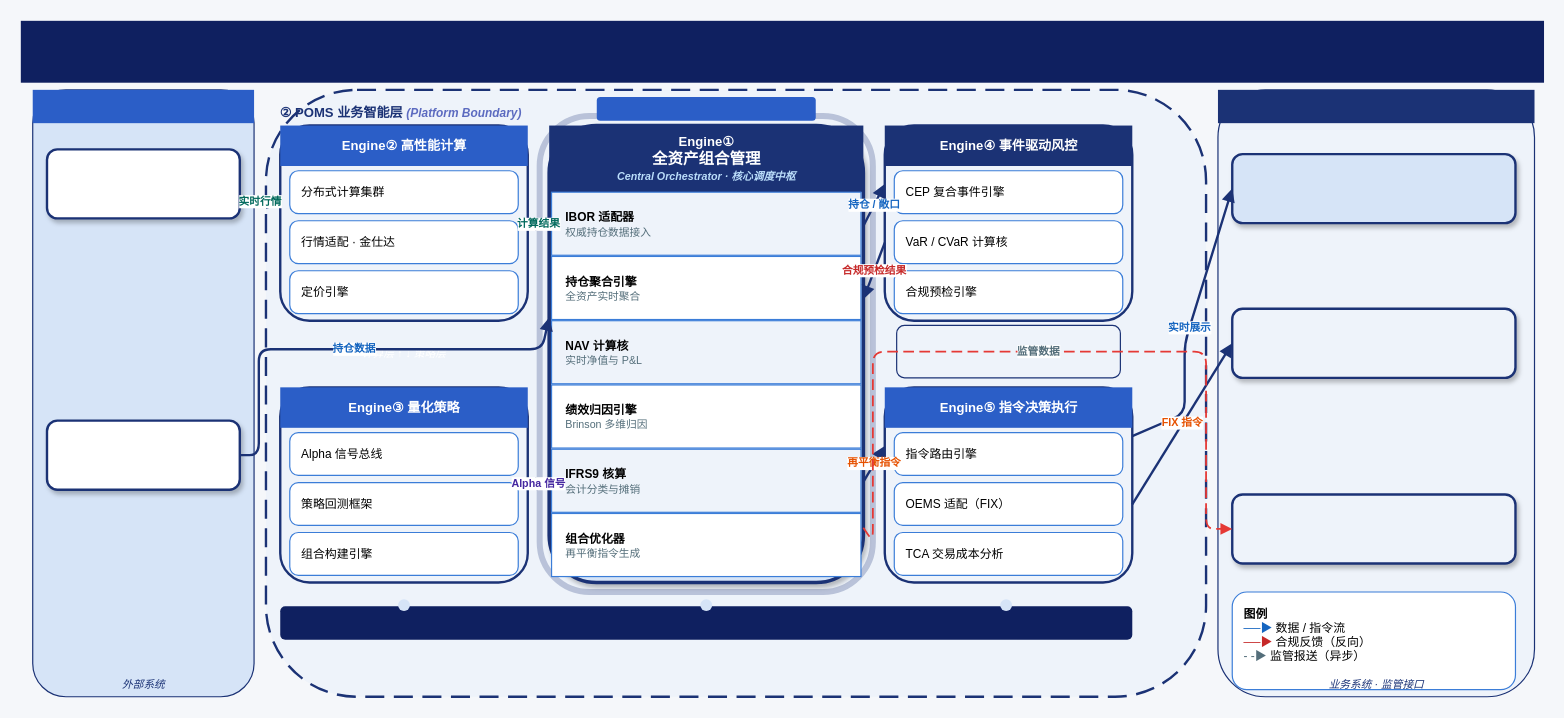
The diagram is 1564 pixels wide and 718 high, and some of its shapes have lost their labels. The centre of each missing label's shape, as x and y in pixels:
IBOR 系统 金证 UFX · 权威持仓源: point 144,456
Kafka 事件总线 事件驱动 · 异步解耦 · 持久化 · 毫秒级投递: point 706,622
OEMS 系统 FIX · 算法执行: point 1374,344
POMS 系统组件架构图 五大引擎 · 17 核心组件 · 事件驱动架构 阅读方向：左→右 跟随数据流: point 781,51
① 数据基础层: point 142,106
③ 业务输出层: point 1375,106
★ 核心调度中枢: point 705,108
⟺ 合规预检循环 <100ms: point 1007,351
投资工作台 Web · PC · 移动端: point 1374,190
监管报送 证监会 · 银保监: point 1374,530
行情中心 金仕达 · 实时行情 <10ms: point 144,185
